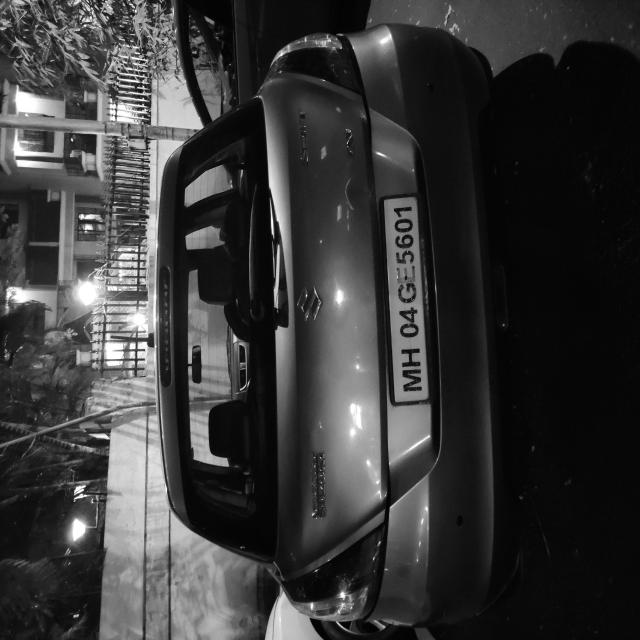car: (0, 215, 456, 640)
license-plate: (168, 514, 339, 576)
